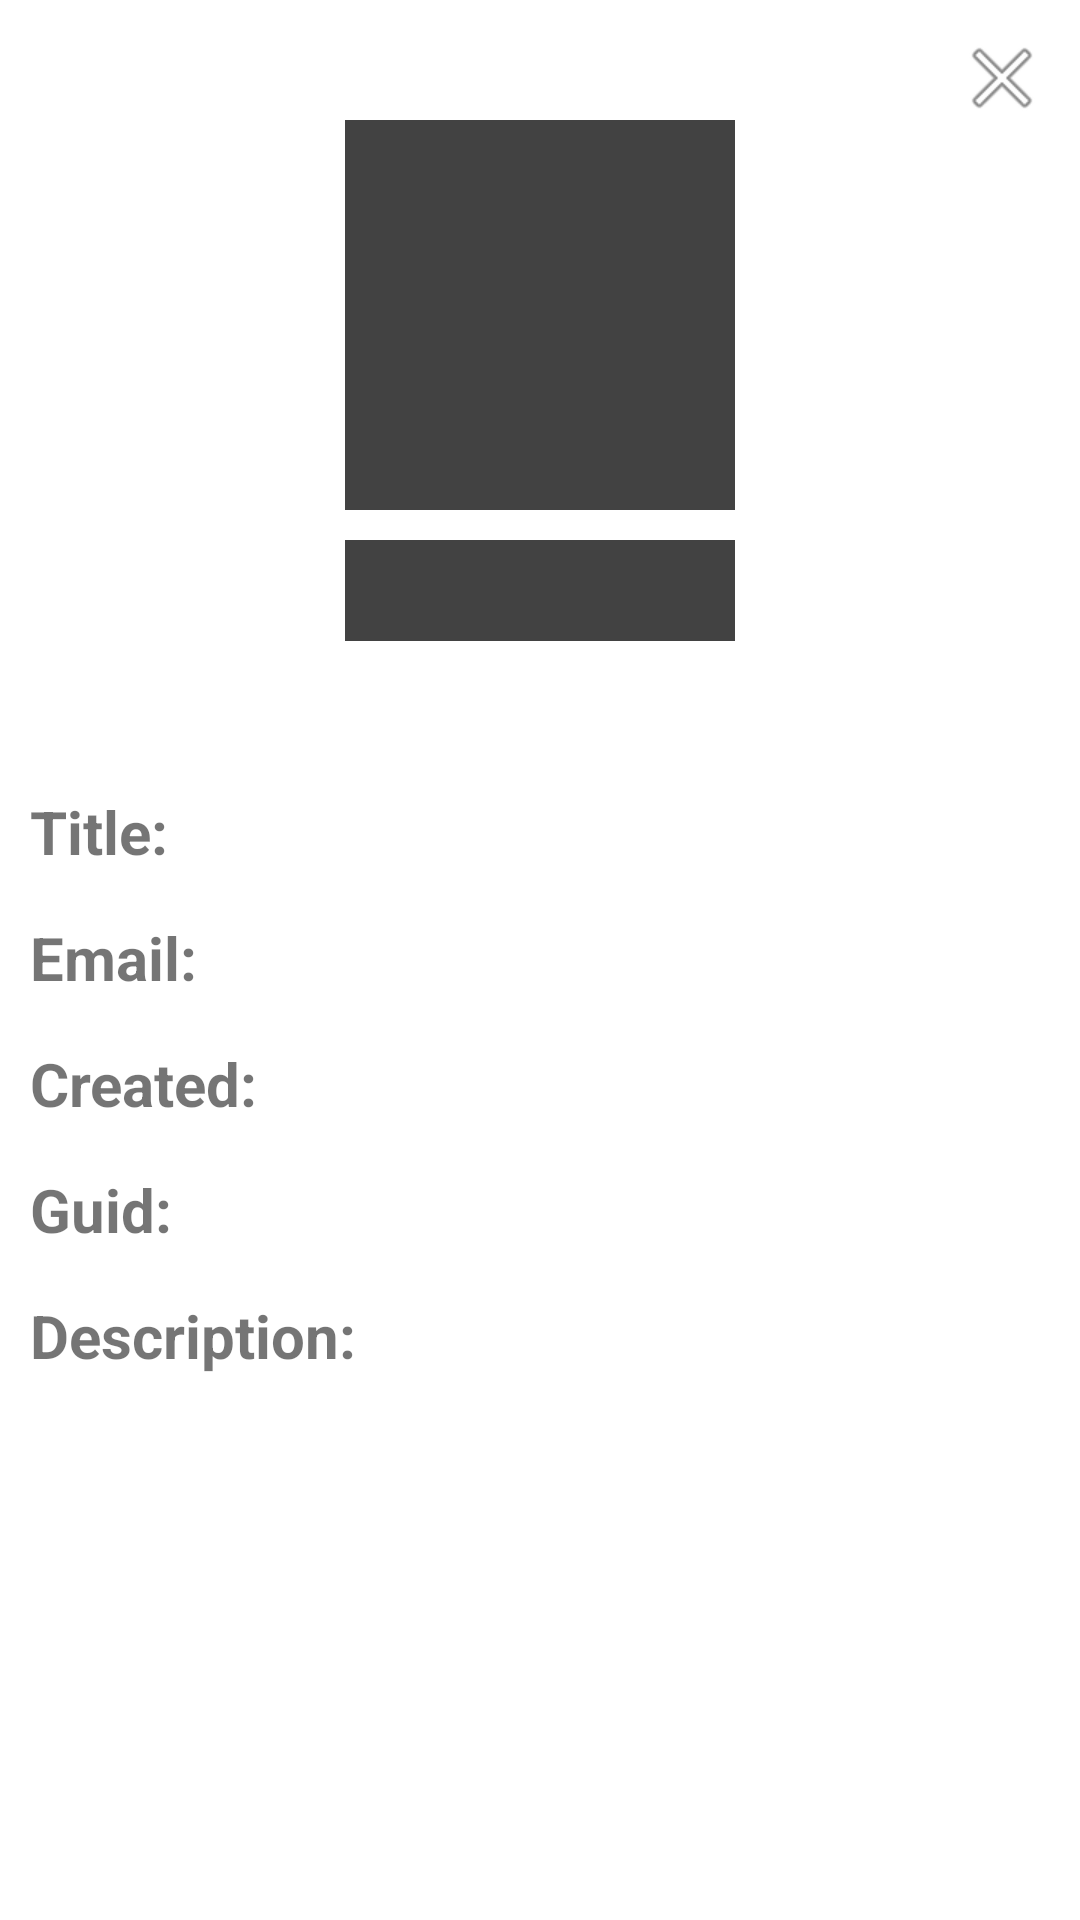

Named icons in this screenshot (1080w x 1920h) and their bounding boxes, (x1, y1, x2, y2):
The exit button, which is shaped like an "X": (972, 48, 1032, 108)
